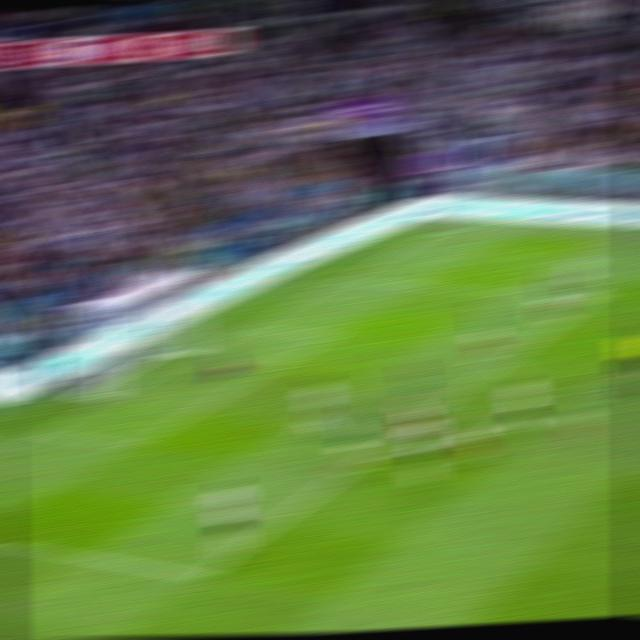bigarea_bottom_inner: (187, 567, 215, 585)
bigarea_top_inner: (580, 290, 604, 302)
bigarea_top_outter: (331, 274, 354, 282)
bottom_arc_area_intersection: (336, 463, 362, 474)
corner: (425, 228, 452, 232)
smallarea_bottom_inner: (119, 437, 148, 454)
smallarea_bottom_outter: (29, 427, 54, 438)
smallarea_top_inner: (314, 330, 337, 340)
smallarea_top_outter: (235, 322, 260, 330)
top_arc_area_intersection: (488, 356, 513, 366)
